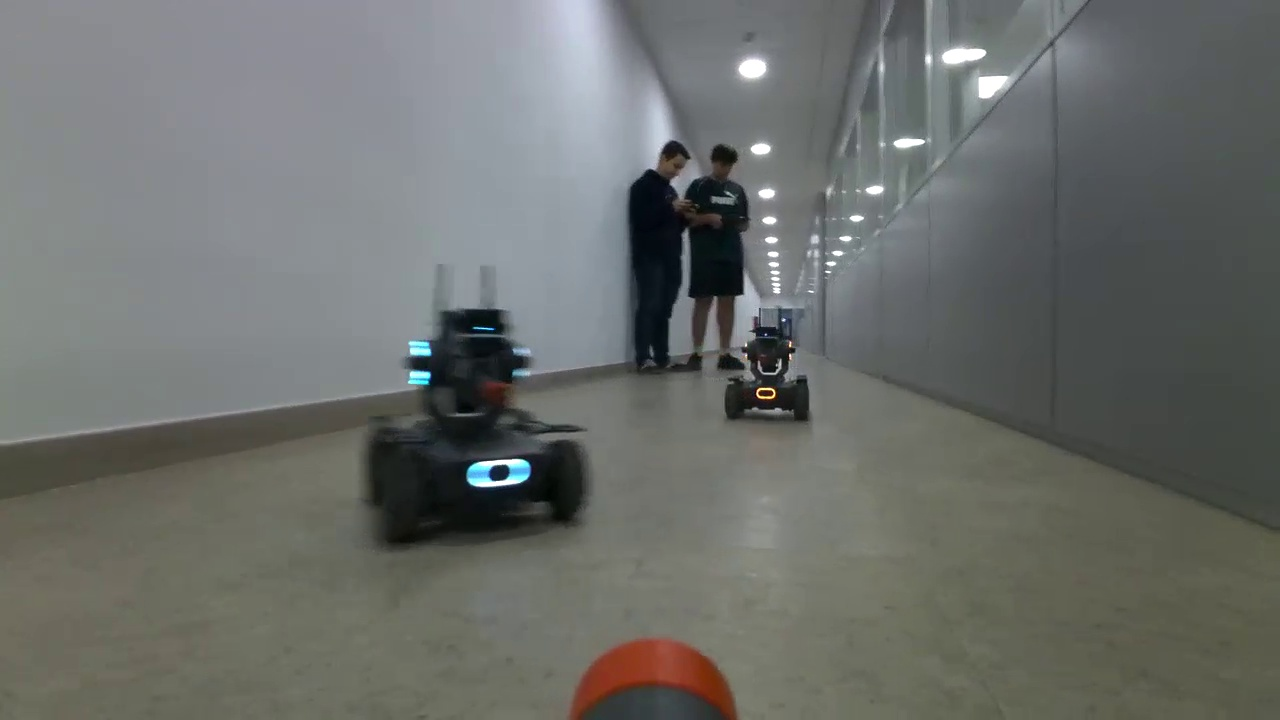robot: (363, 305, 589, 544), (725, 328, 810, 425)
